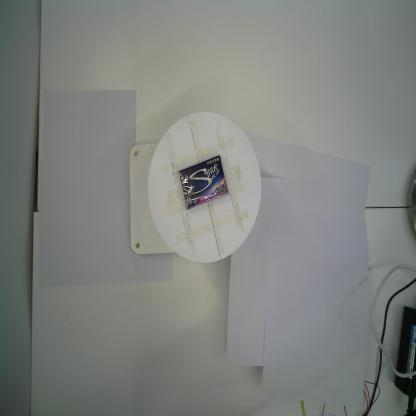Gum: (178, 154, 228, 210)
